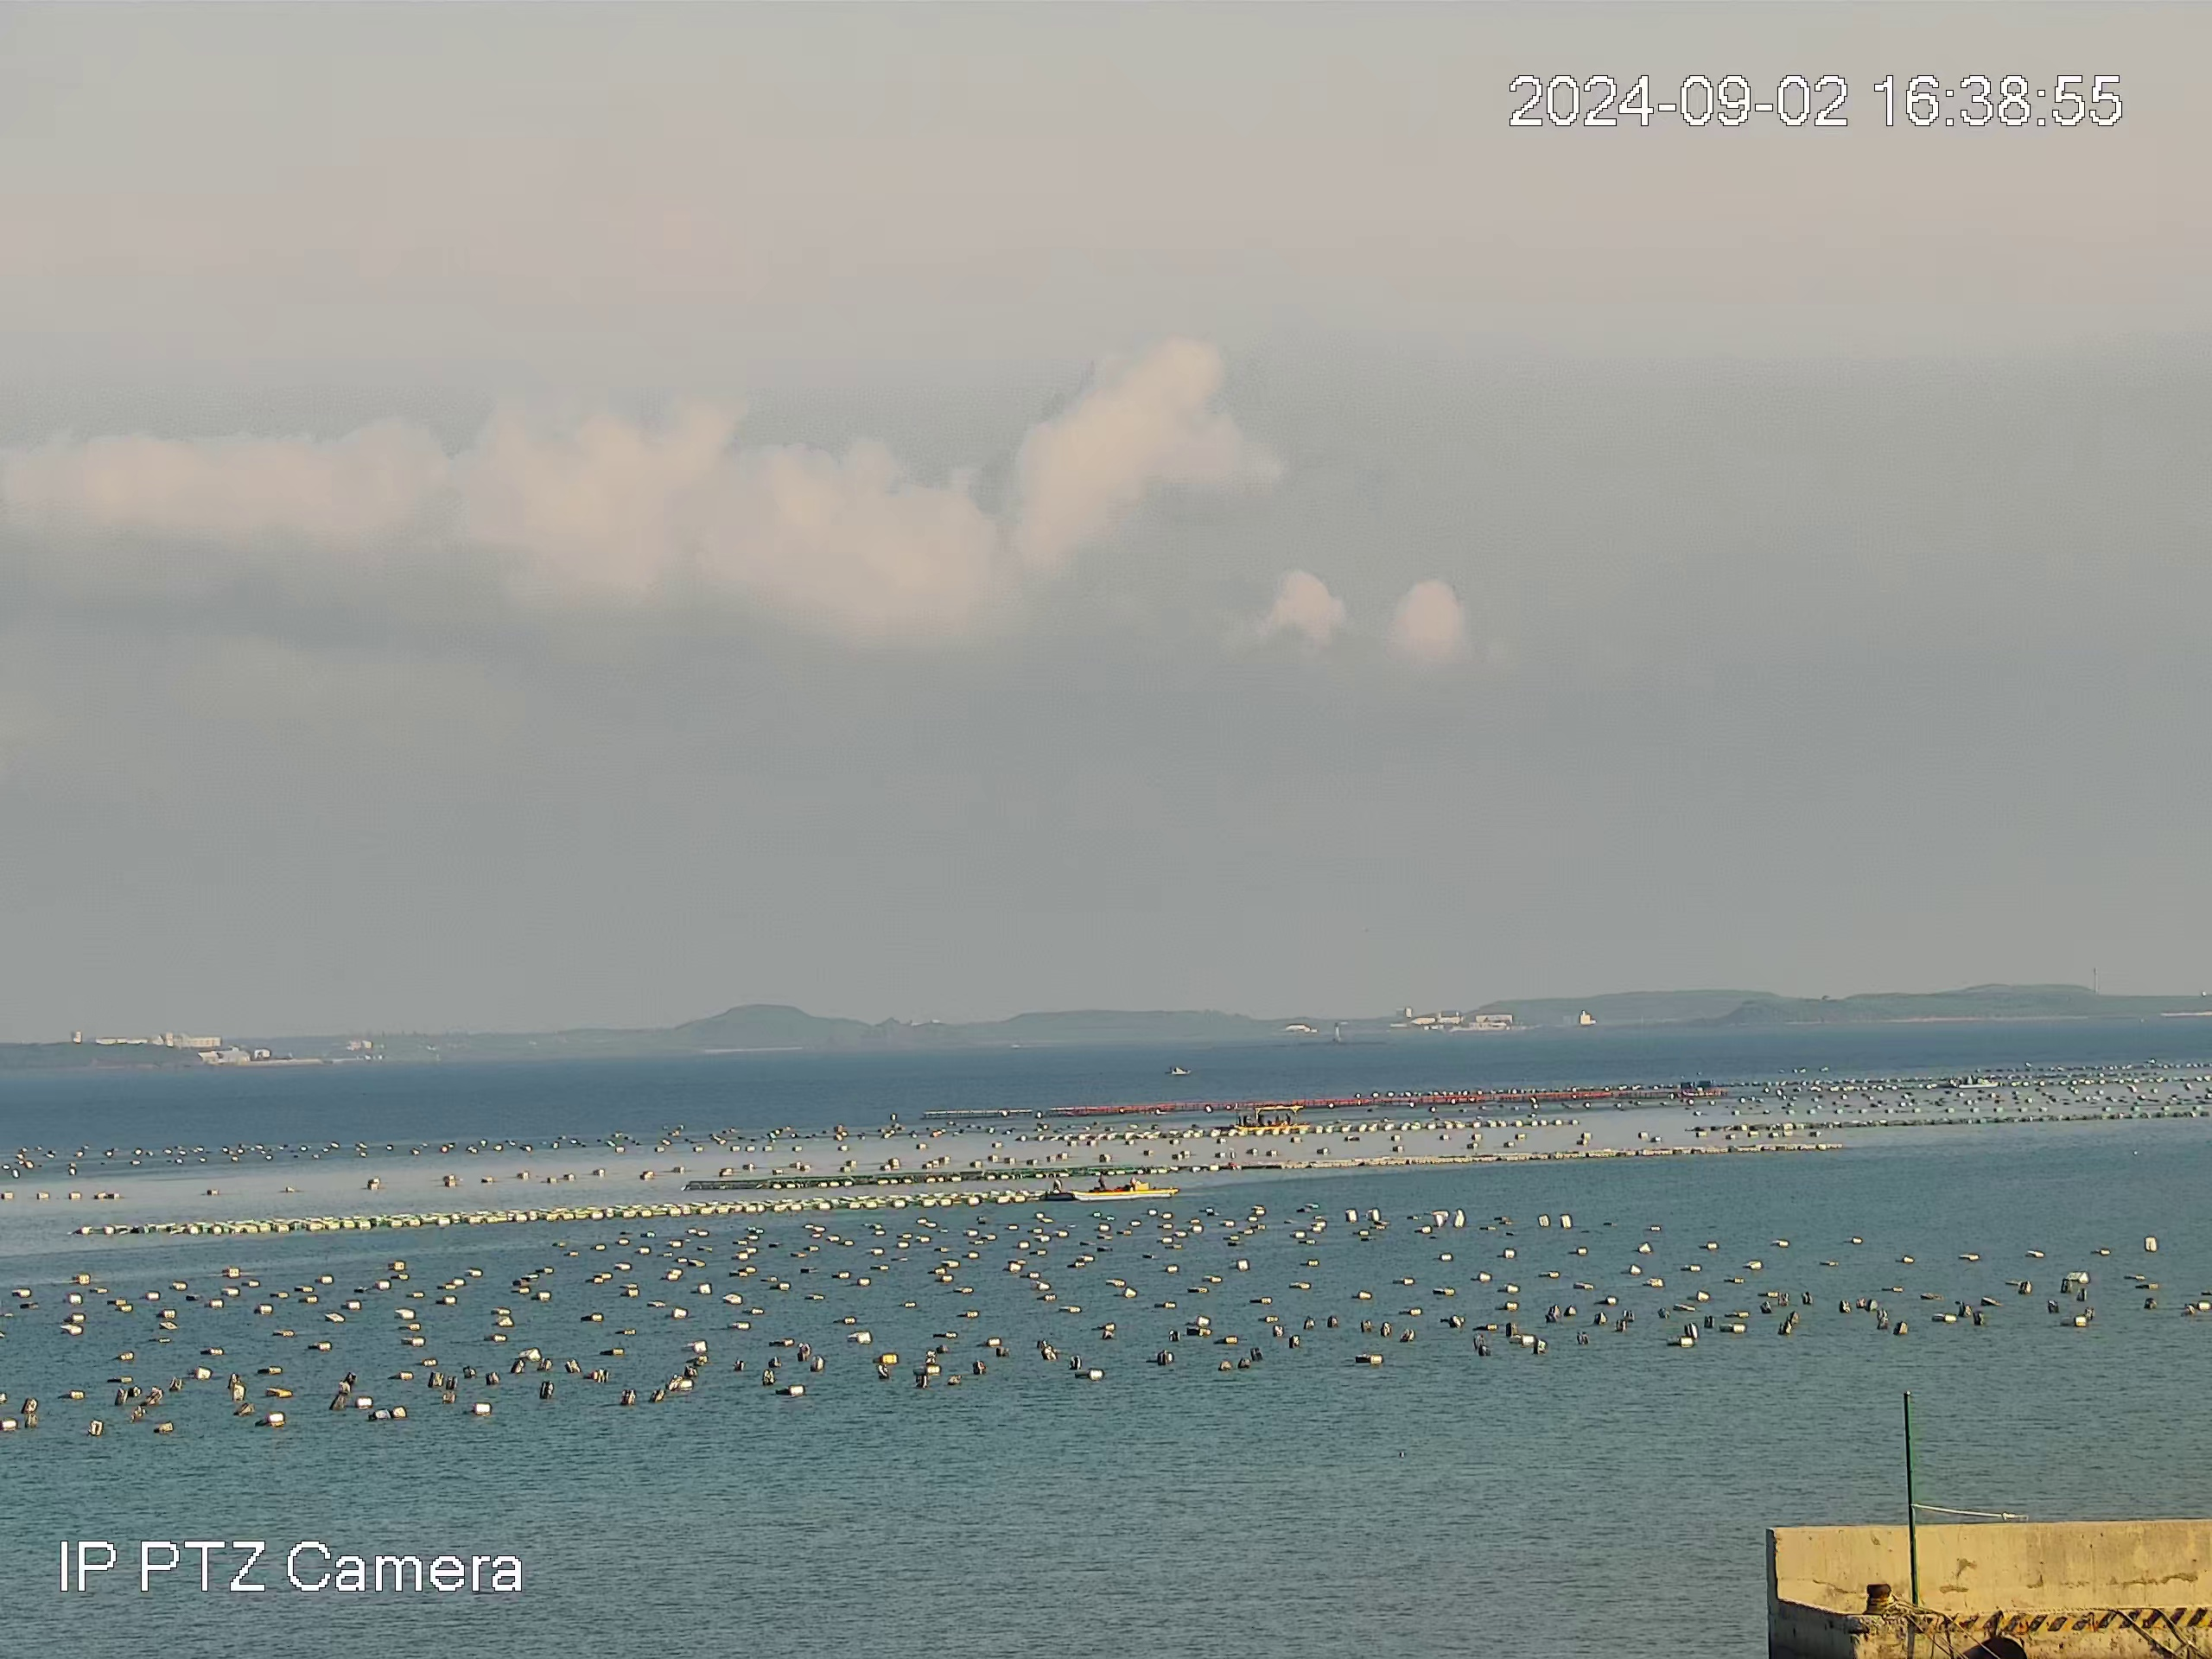boat: (1038, 1171, 1179, 1202), (1231, 1101, 1312, 1131), (1956, 1073, 2000, 1091), (1169, 1065, 1193, 1075)
